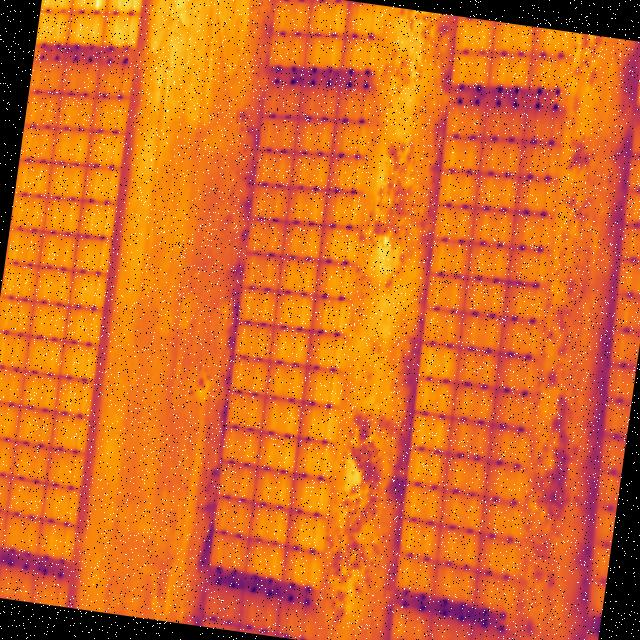Hotspot: (90, 0, 106, 13)
